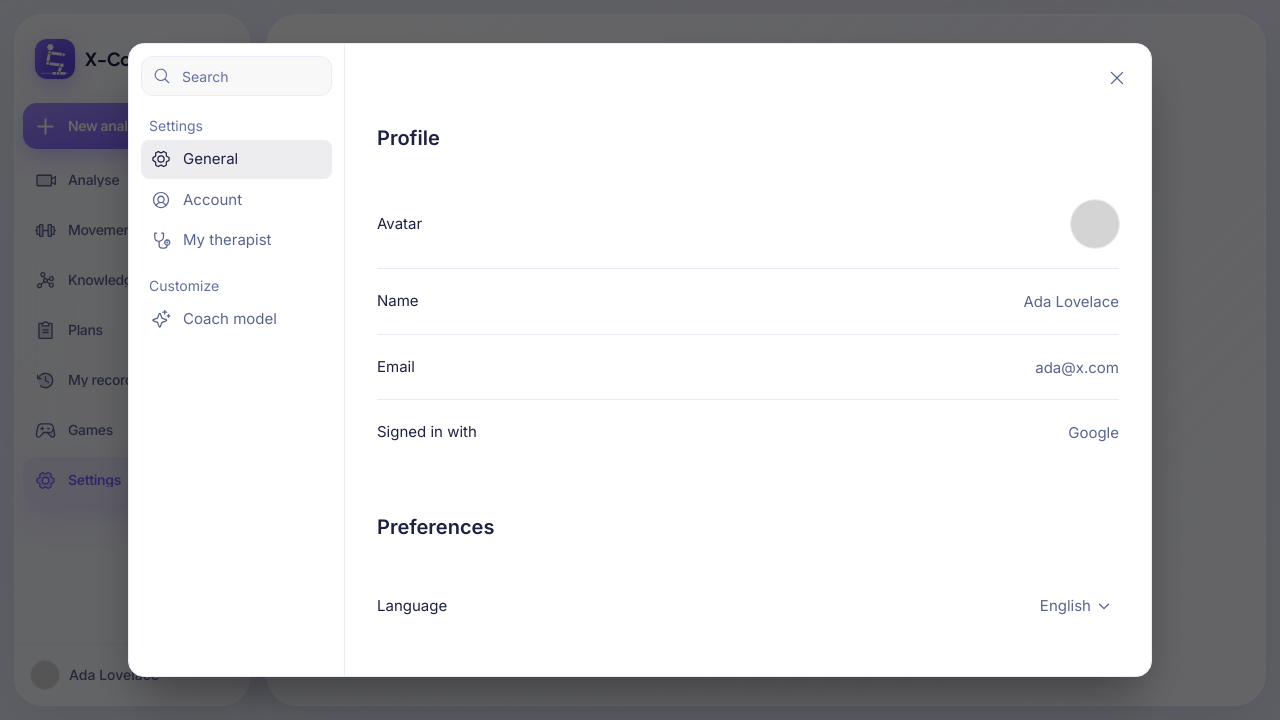
it: Settings — my therapist › accepting a code lists the linked therapist
The width and height of the screenshot is (1280, 720).
Click the button "My therapist" at [236, 240], box [141,221,332,260]
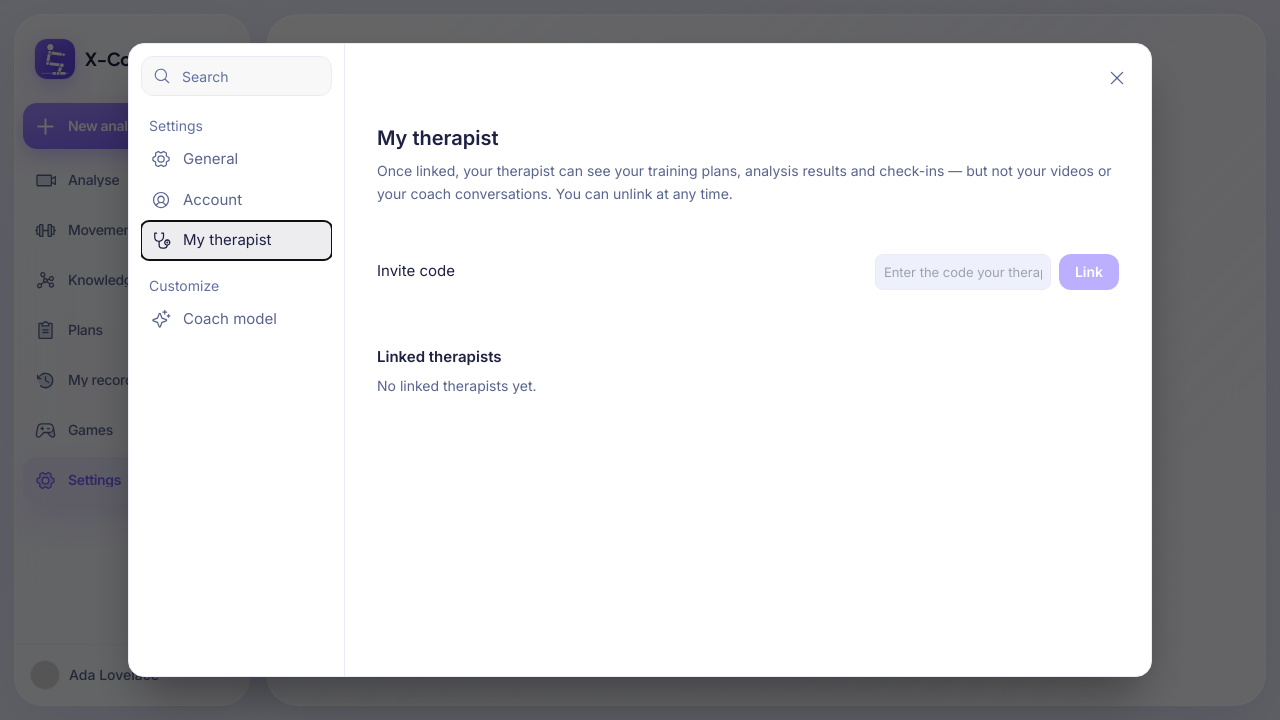
Now the text "No linked therapists yet." is shown, box [377,377,537,394]
Type "ABC123" into the field named "invite code" at [963, 272], box [875,254,1051,290]
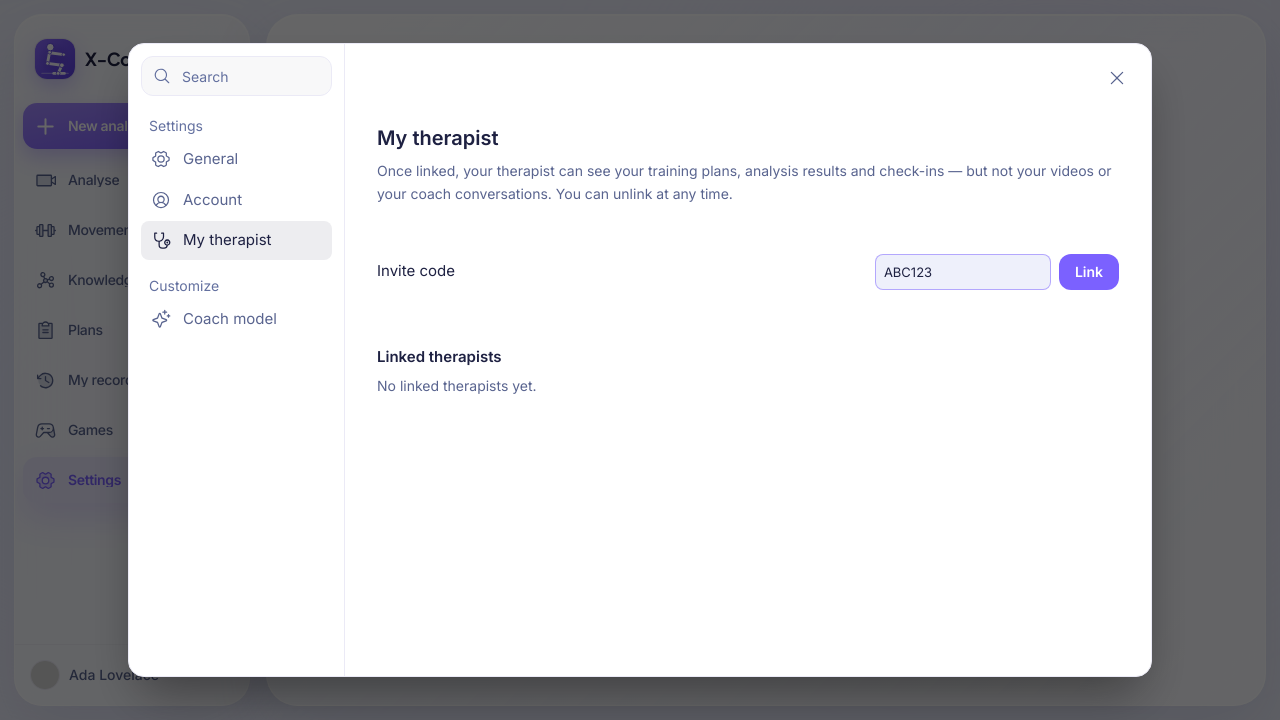
Click the button "Link" at [1089, 272], box [1059,254,1119,290]
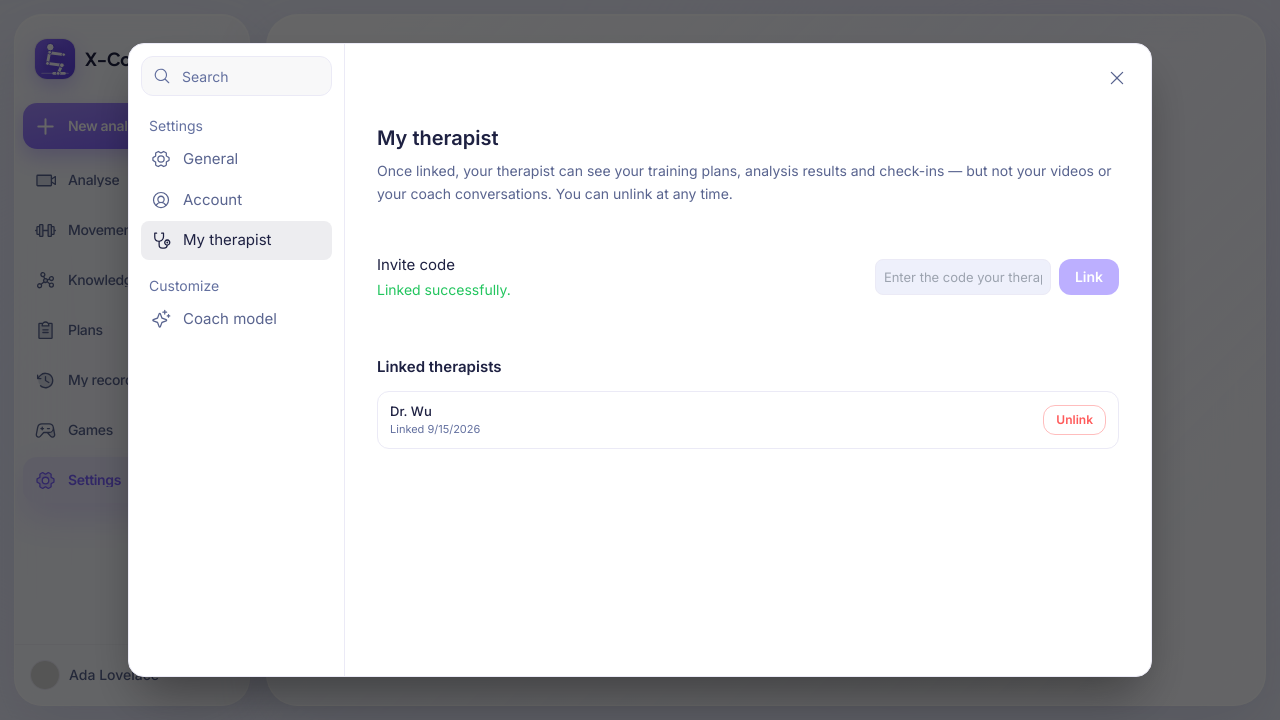
Now the text "Dr. Wu" is shown, box [390,403,432,419]
